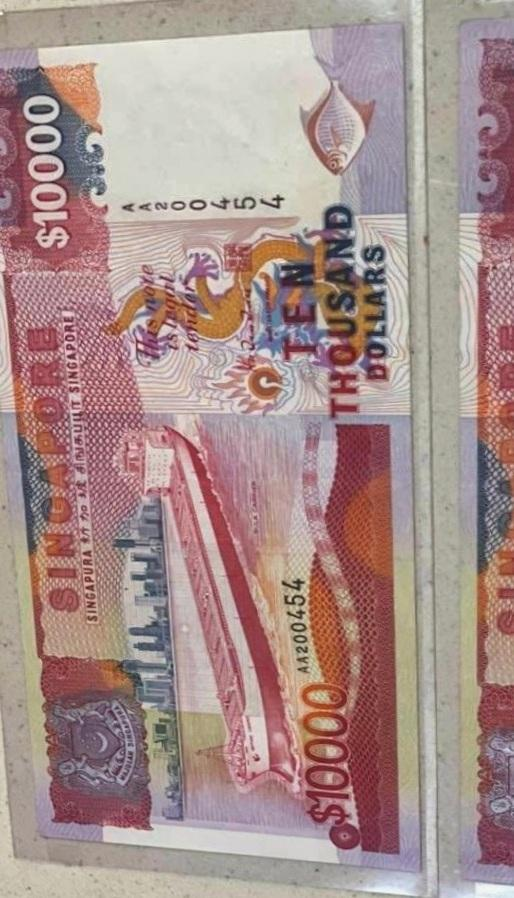10000SingaporeDollar: (0, 34, 407, 850)
